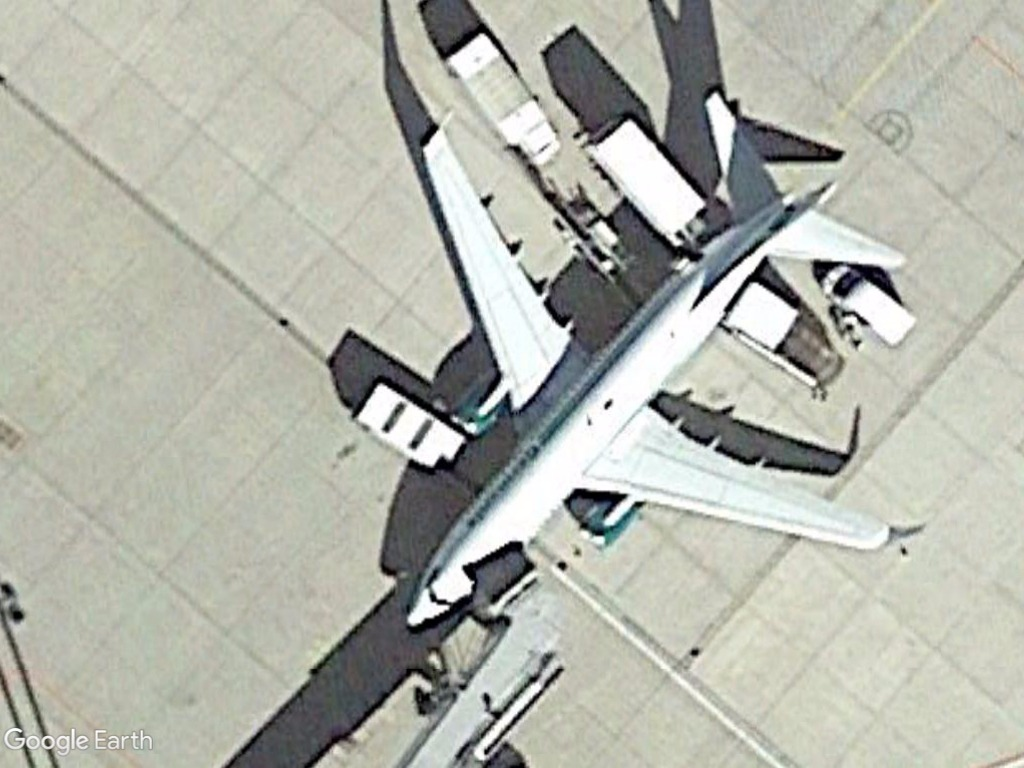airliner: (343, 92, 905, 650)
van: (810, 262, 922, 351)
